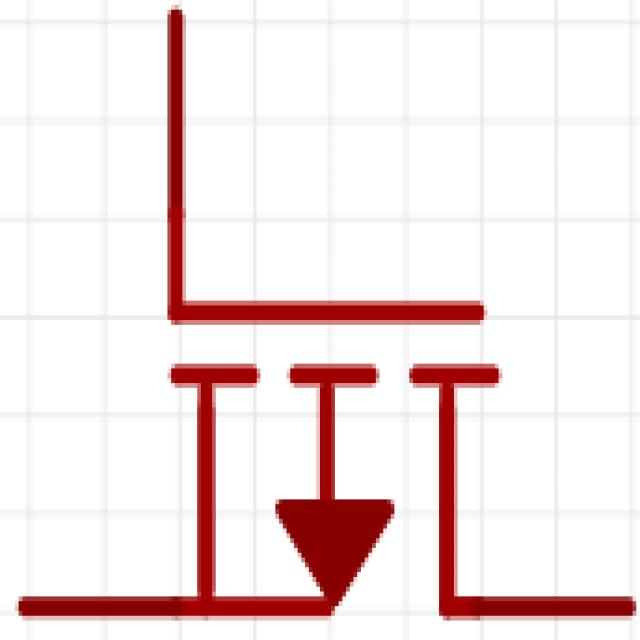pmos: (15, 82, 621, 640)
